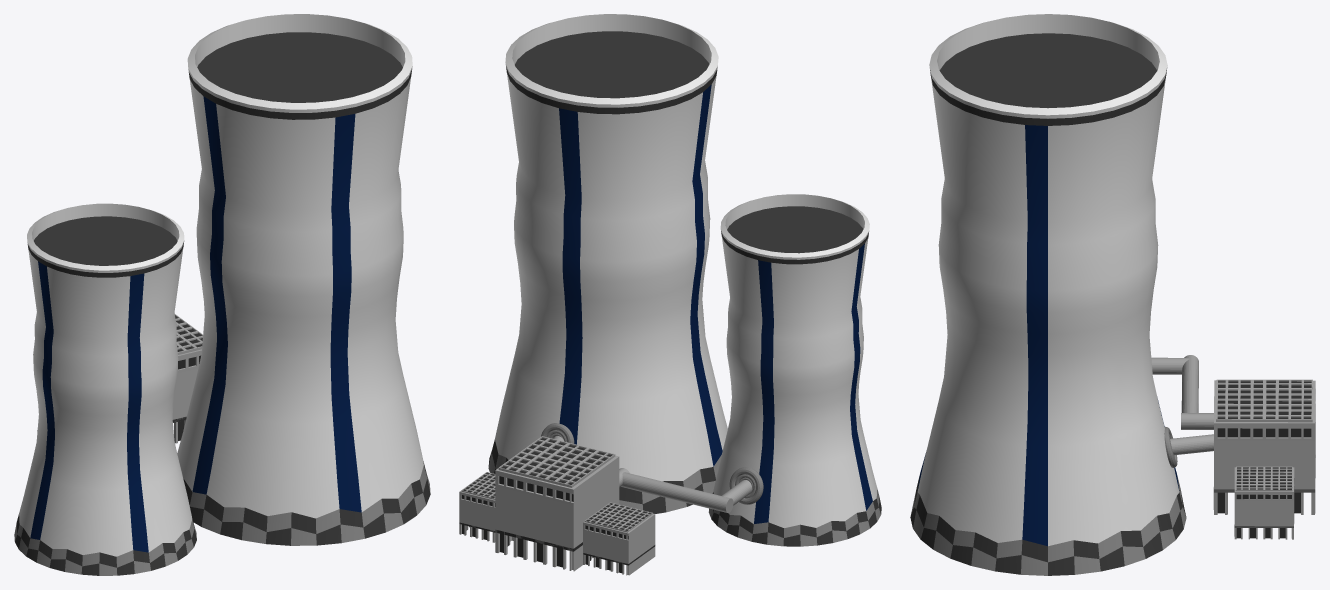
Rendered from CoolingTower.fbx.
The picture shows the model from 3 angles, left to right: view 1: azimuth 30°, elevation 25°; view 2: azimuth 150°, elevation 25°; view 3: azimuth 270°, elevation 25°; orthographic projection. The views are drawn at different scales.
Visible parts, largest first — view 1: Cylinder, Cylinder.003, Cube.002; view 2: Cylinder, Cylinder.003, Cube.002, Cube.003, Cube.001, Cylinder.004, Torus.004; view 3: Cylinder, Cube.002, Cube.001, Cylinder.004, Cylinder.001, Cylinder.002, Cylinder.005.
Boxes of the visible parts, x1,y1,x2,y2 form: Cylinder: (177,14,430,545); Cylinder.003: (14,203,196,575); Cube.002: (172,314,202,443); Cylinder: (488,14,727,513); Cylinder.003: (708,194,881,546); Cube.002: (495,436,619,571); Cube.003: (583,502,655,575); Cube.001: (459,472,511,542); Cylinder.004: (621,472,733,513); Torus.004: (729,467,763,504); Cylinder: (910,14,1186,575); Cube.002: (1213,379,1315,514); Cube.001: (1234,466,1294,539); Cylinder.004: (1181,355,1198,412); Cylinder.001: (1170,434,1213,455); Cylinder.002: (1151,357,1189,374); Cylinder.005: (1181,413,1213,429).
Size of the model in its own units: 27.93 by 29.85 by 24.01.
